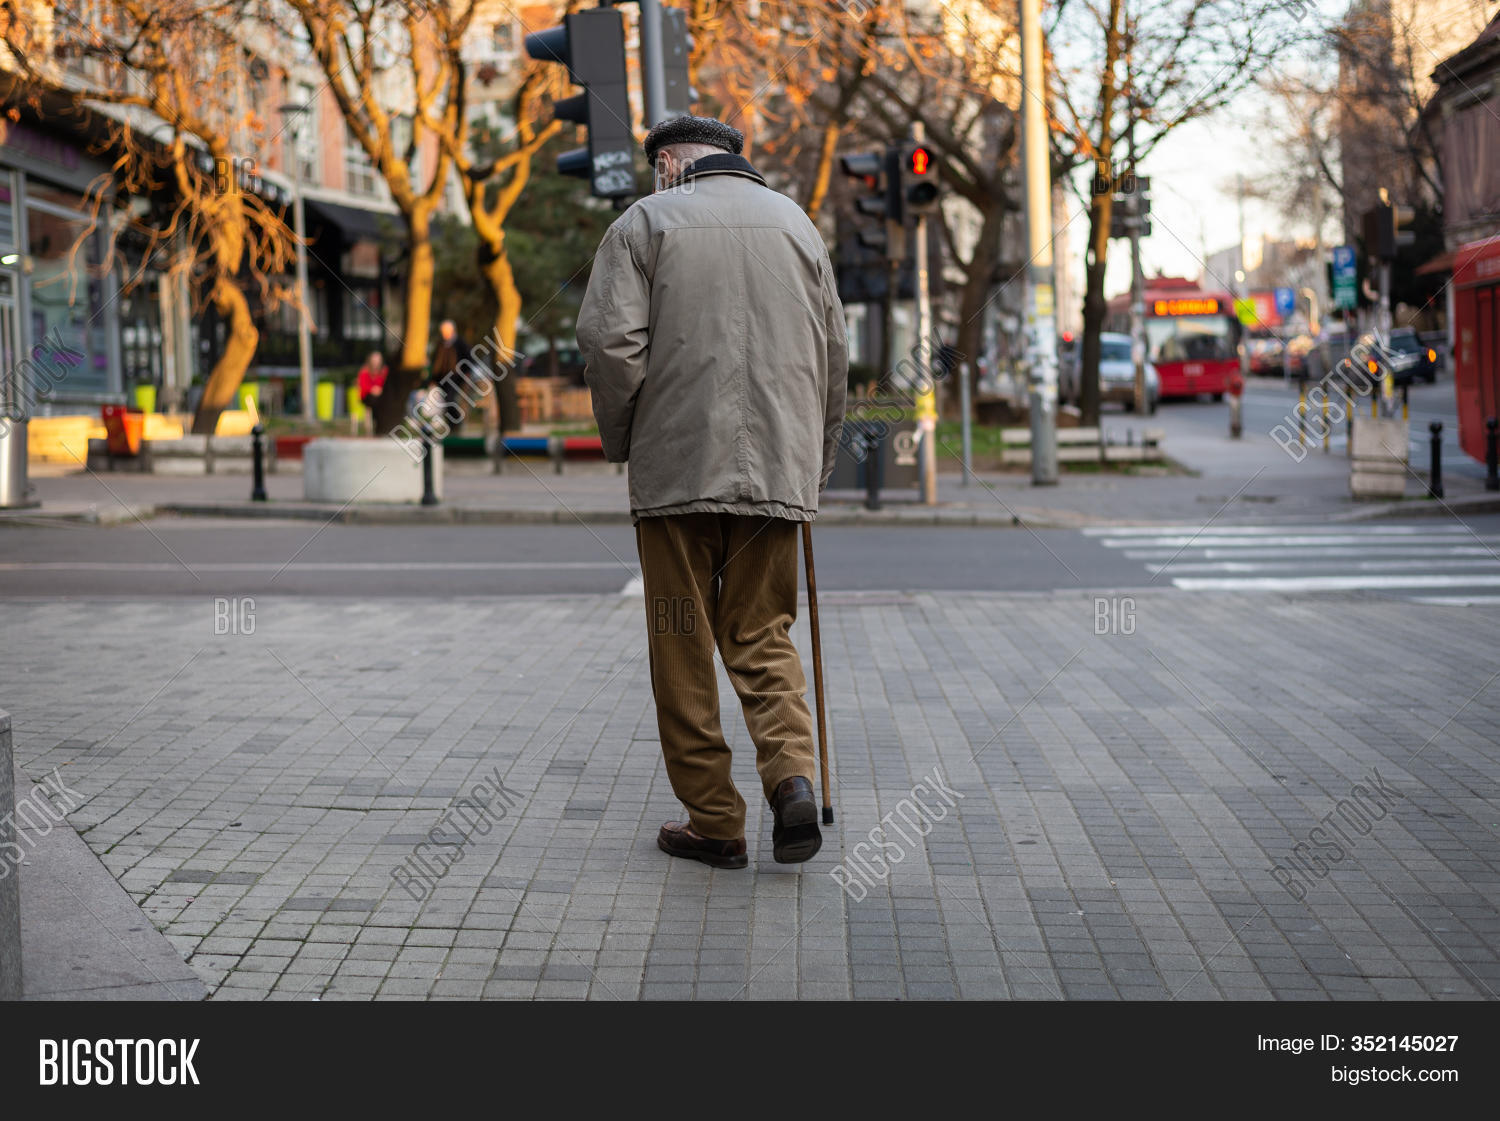car: (1105, 269, 1248, 418)
person: (566, 109, 856, 881)
